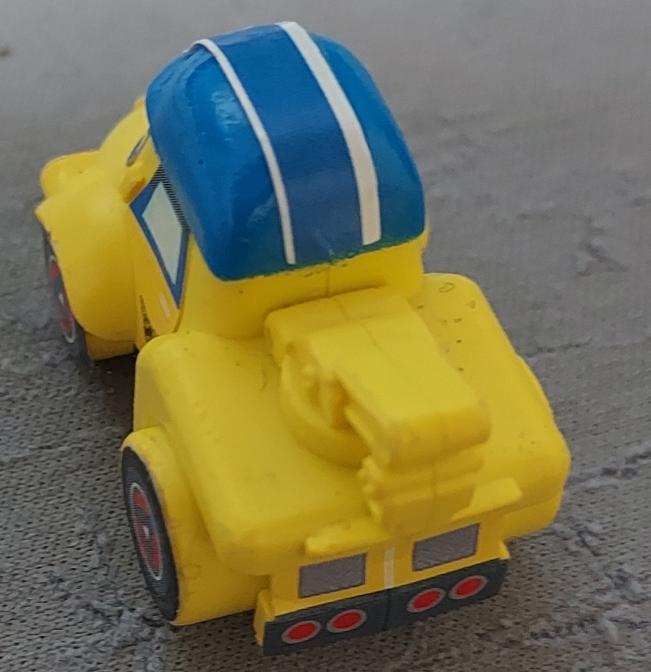car: (1, 0, 651, 672)
